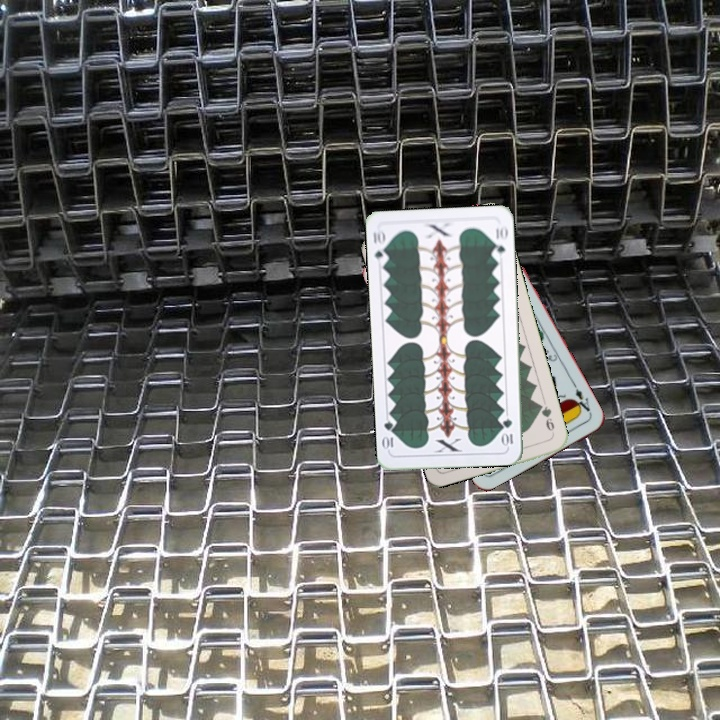EA: (569, 380, 594, 418)
G10: (369, 226, 390, 266), (499, 414, 515, 449)
G9: (534, 400, 557, 438)
